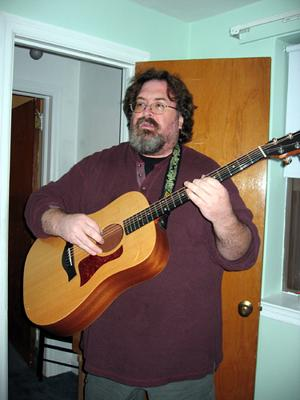person: (25, 69, 262, 400)
